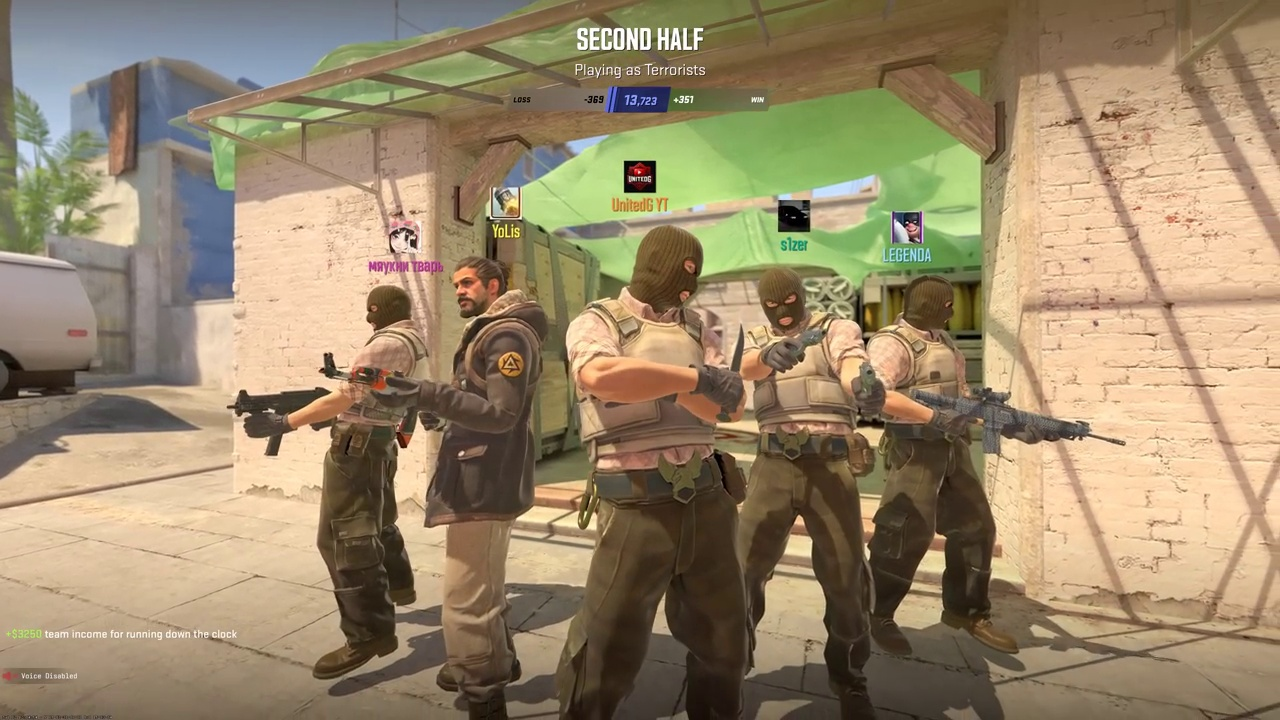Terrorist: (564, 225, 754, 716), (415, 255, 555, 711), (743, 268, 873, 720), (866, 276, 1015, 657), (310, 285, 427, 684)
